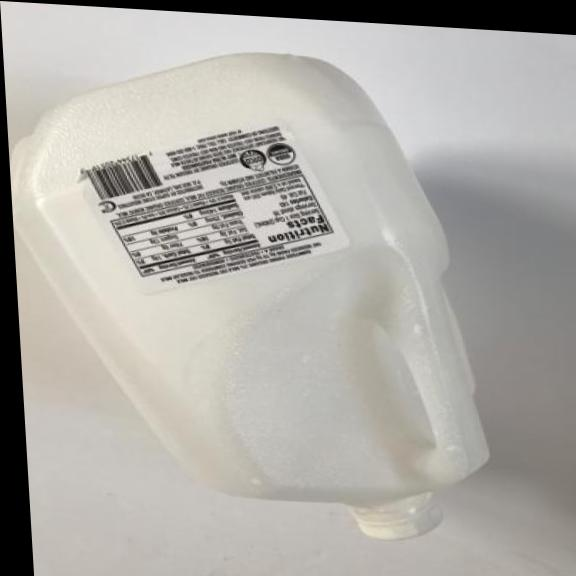Plastik: (8, 34, 501, 548)
